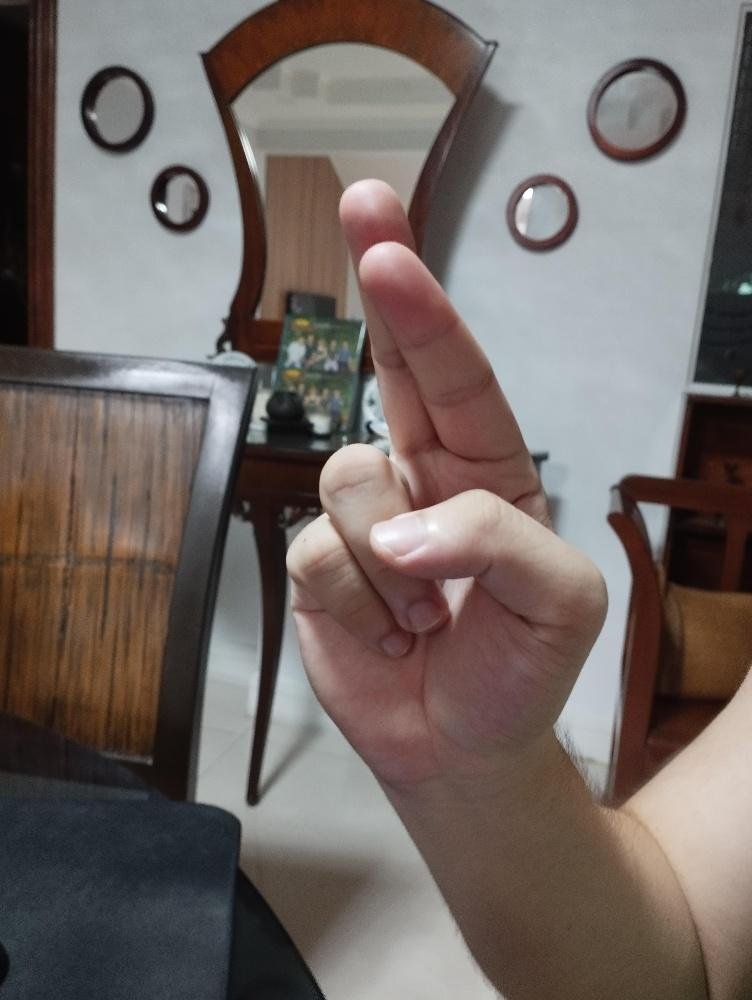r: (287, 172, 613, 784)
